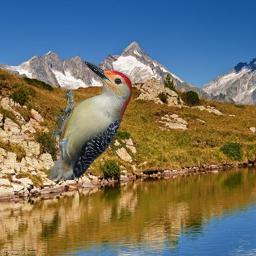Woodpecker: (49, 61, 132, 180)
